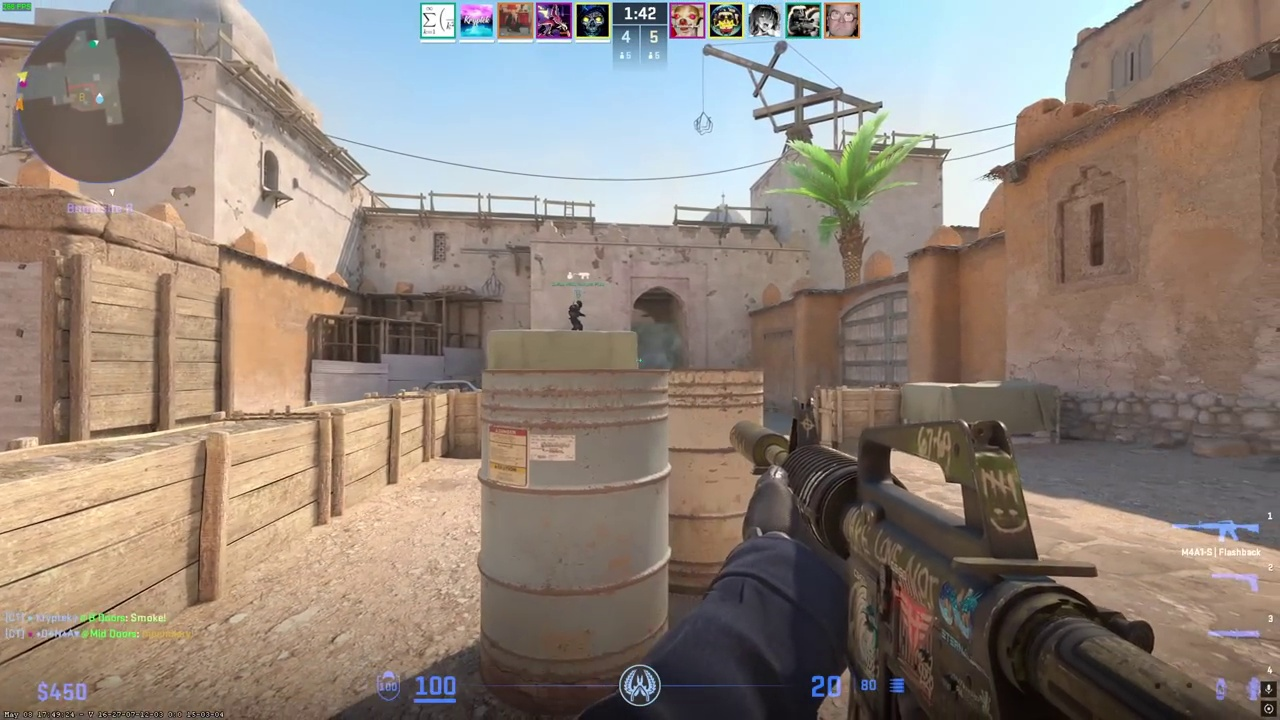CT: (569, 300, 584, 331)
